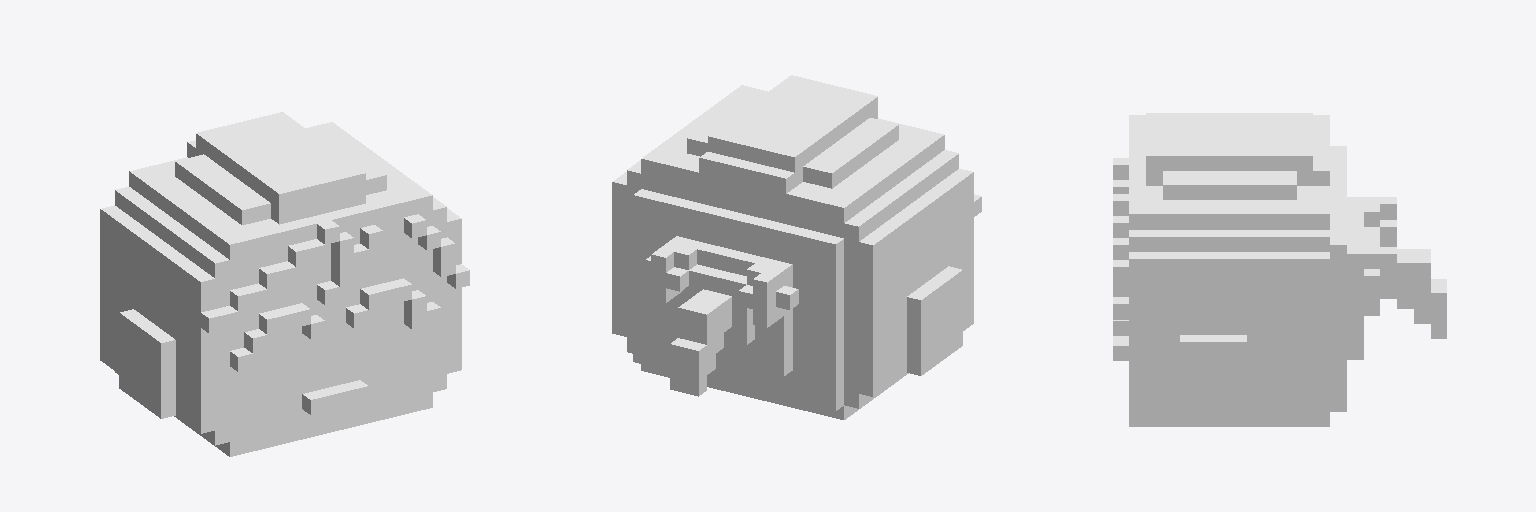
The model's file is player3Head.obj.
3 renders of one model, left to right at view 1: azimuth 30°, elevation 25°; view 2: azimuth 150°, elevation 25°; view 3: azimuth 270°, elevation 25°, orthographic.
Visible parts, largest first — view 1: player3Head; view 2: player3Head; view 3: player3Head.
Boxes of the visible parts, <box> form: player3Head: <box>100,112,469,456</box>; player3Head: <box>612,75,981,419</box>; player3Head: <box>1113,113,1446,426</box>.
Size of the model in its own units: 20 by 16 by 20.